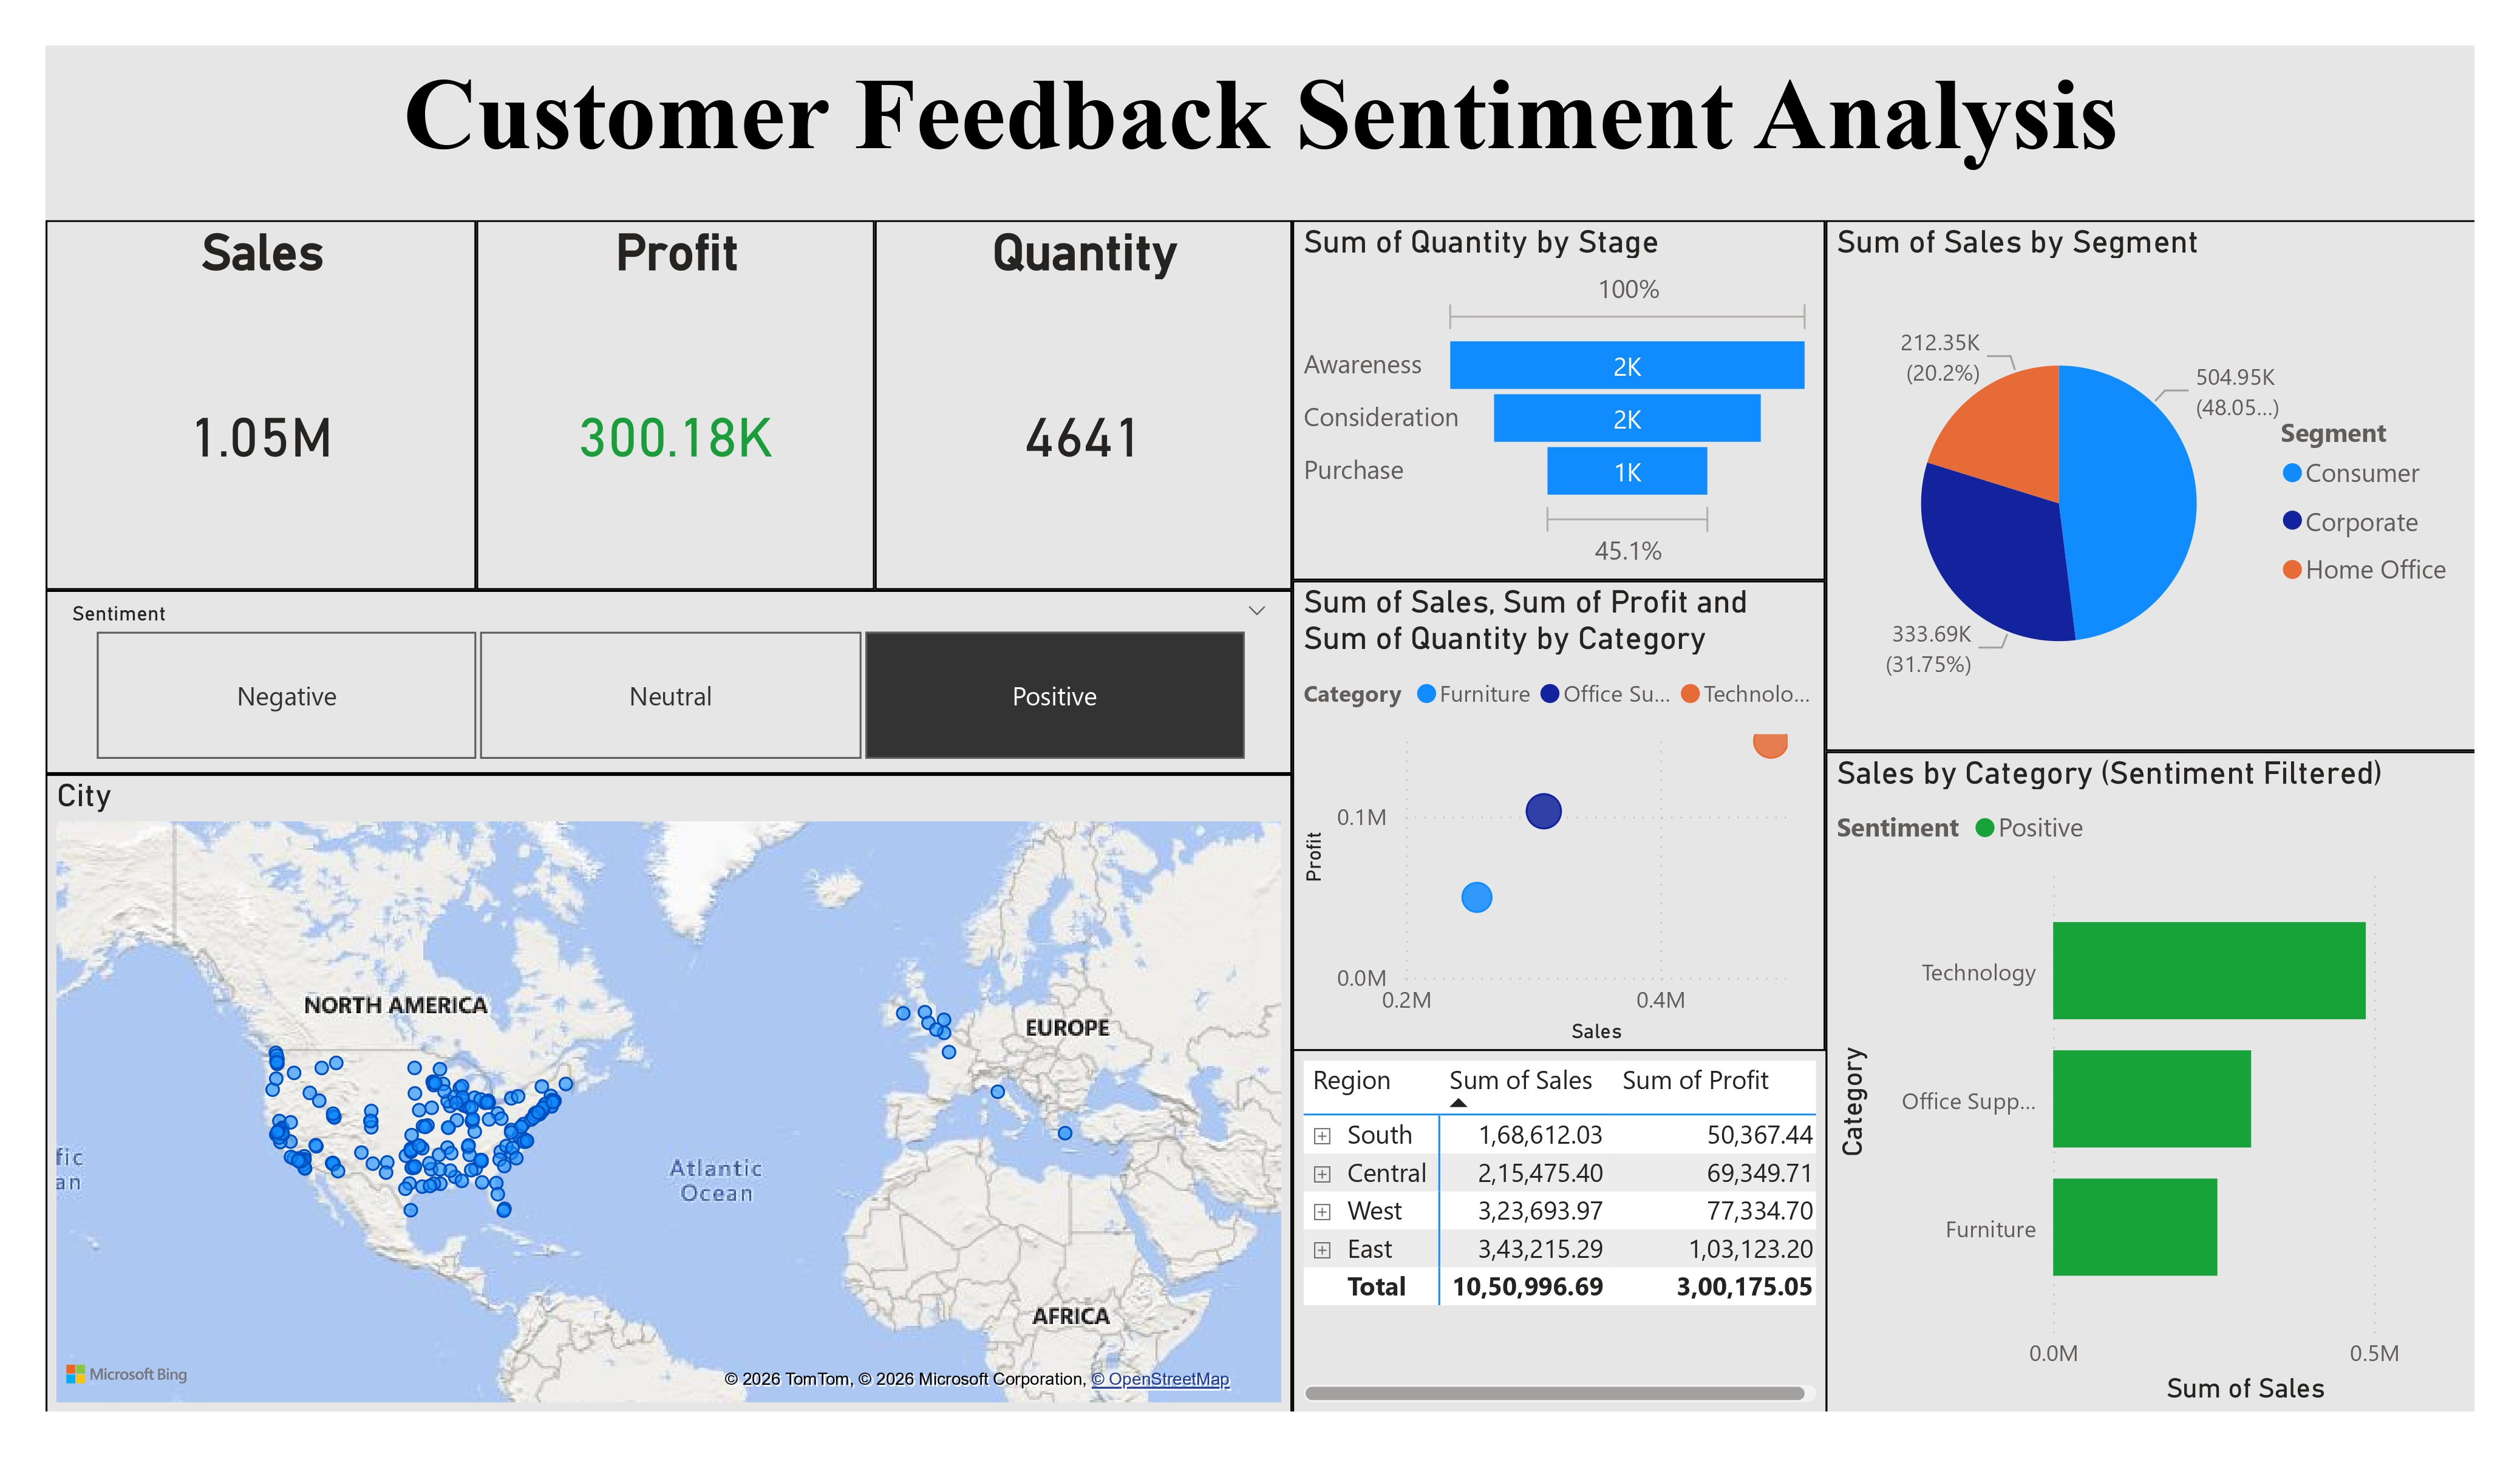

What the dashboard file says about the page in this screenshot:
{"tool":"powerbi","page":{"name":"Executive Summary","canvas":[1280,720],"ordinal":0},"visuals":[{"type":"card","title":"Sales","fields":{"Values":["Sum(SampleSuperstore.Sales)"]},"box":[0,92.3,226.7,194.3],"z":0},{"type":"card","title":"Profit","fields":{"Values":["Sum(SampleSuperstore.Profit)"]},"box":[226.7,92.3,210.5,194.3],"z":1000},{"type":"card","title":"Quantity","fields":{"Values":["Sum(SampleSuperstore.Quantity)"]},"box":[437.2,92.3,220.2,194.3],"z":2000},{"type":"clusteredBarChart","title":"Sales by Category (Sentiment Filtered)","fields":{"Category":["SampleSuperstore.Category"],"Y":["Sum(SampleSuperstore.Sales)"],"Series":["SampleSuperstore.Sentiment"]},"box":[937.5,372.4,343.3,348.1],"z":3000},{"type":"pieChart","fields":{"Category":["SampleSuperstore.Segment"],"Y":["Sum(SampleSuperstore.Sales)"]},"box":[937.5,92.3,343.3,280.1],"z":4000},{"type":"map","fields":{"Category":["SampleSuperstore.City"]},"box":[0,383.8,657.4,336.8],"z":5000},{"type":"scatterChart","fields":{"X":["Sum(SampleSuperstore.Sales)"],"Y":["Sum(SampleSuperstore.Profit)"],"Size":["Sum(SampleSuperstore.Quantity)"],"Series":["SampleSuperstore.Category"]},"box":[657.4,281.7,280.1,249.4],"z":6000},{"type":"slicer","fields":{"Values":["SampleSuperstore.Sentiment"]},"box":[0,286.6,657.4,97.2],"z":7000},{"type":"pivotTable","fields":{"Rows":["SampleSuperstore.Region","SampleSuperstore.Sub-Category"],"Values":["Sum(SampleSuperstore.Sales)","Sum(SampleSuperstore.Profit)"]},"box":[657.4,529.5,281.7,191.1],"z":8000},{"type":"funnel","fields":{"Category":["SampleSuperstore.Stage"],"Y":["Sum(SampleSuperstore.Quantity)"]},"box":[657.4,92.3,280.1,189.4],"z":9000},{"type":"textbox","box":[0,0,1280.8,92.3],"z":10000}]}

Visuals, with their boxes on the page's 1280x720 design canvas (x1, y1, x2, y2). These are canvas units, not pixel positions in the 2520x1457 screenshot, which may show the page scaled, cropped or inside an application window:
"Sales" card: <region>0, 92, 227, 287</region>
"Profit" card: <region>227, 92, 437, 287</region>
"Quantity" card: <region>437, 92, 657, 287</region>
"Sales by Category (Sentiment Filtered)" clusteredBarChart: <region>938, 372, 1281, 720</region>
pieChart - SampleSuperstore.Segment x Sum(SampleSuperstore.Sales): <region>938, 92, 1281, 372</region>
map - SampleSuperstore.City: <region>0, 384, 657, 721</region>
scatterChart - Sum(SampleSuperstore.Sales) x Sum(SampleSuperstore.Profit): <region>657, 282, 938, 531</region>
slicer - SampleSuperstore.Sentiment: <region>0, 287, 657, 384</region>
pivotTable - SampleSuperstore.Region x SampleSuperstore.Sub-Category: <region>657, 530, 939, 721</region>
funnel - SampleSuperstore.Stage x Sum(SampleSuperstore.Quantity): <region>657, 92, 938, 282</region>
textbox: <region>0, 0, 1281, 92</region>
